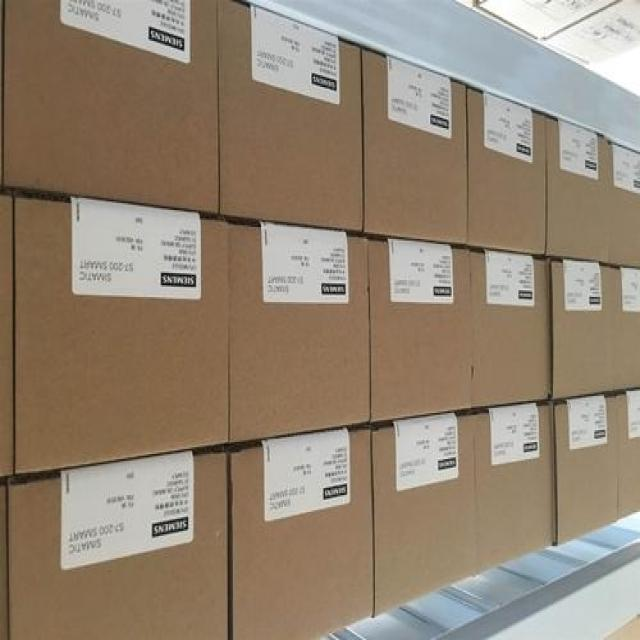box: (14, 200, 227, 473), (1, 2, 218, 215), (10, 451, 227, 637), (218, 0, 364, 232), (227, 217, 367, 439), (230, 428, 370, 638), (374, 411, 481, 616), (364, 49, 466, 244), (366, 236, 470, 420), (471, 406, 550, 572), (467, 89, 543, 254), (470, 251, 549, 406), (550, 393, 616, 544), (545, 256, 614, 399), (544, 114, 605, 261), (608, 140, 640, 268), (614, 266, 640, 391), (620, 391, 640, 517)
